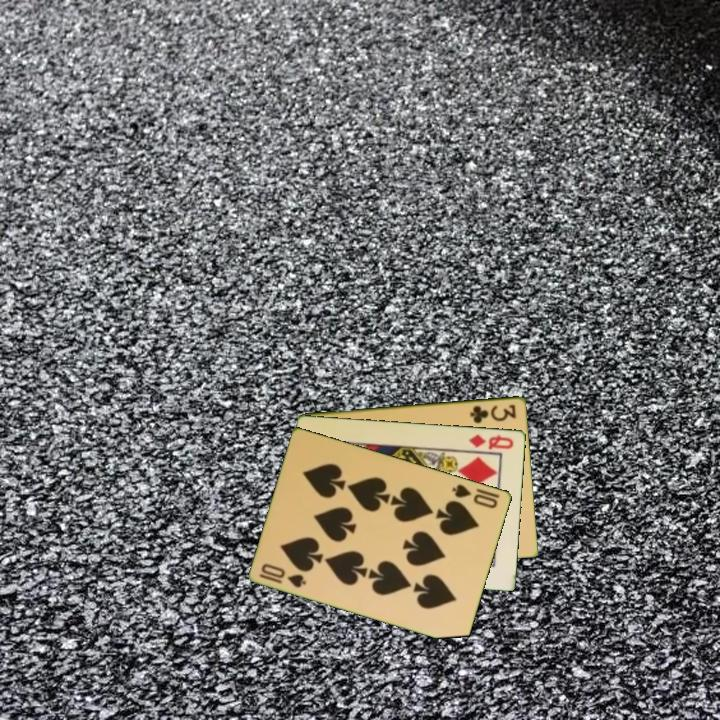10s: (256, 560, 310, 590), (449, 480, 501, 511)
3c: (467, 401, 519, 425)
Qd: (466, 430, 517, 452)
